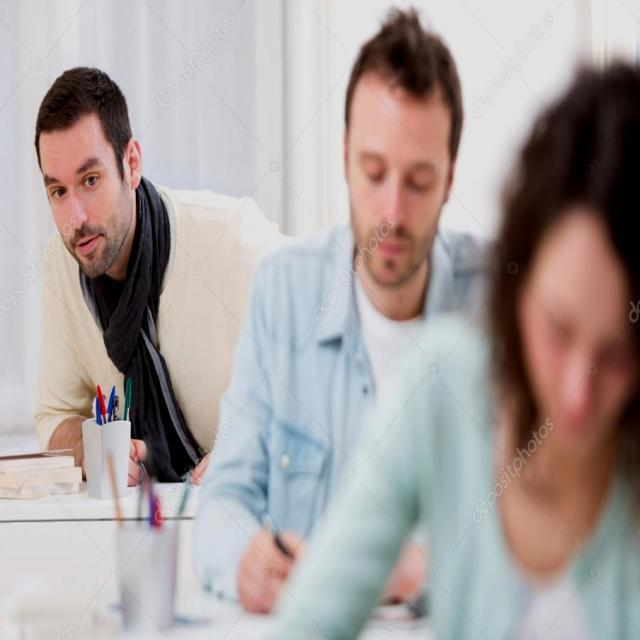cheating: (23, 55, 320, 466), (313, 7, 497, 389)
